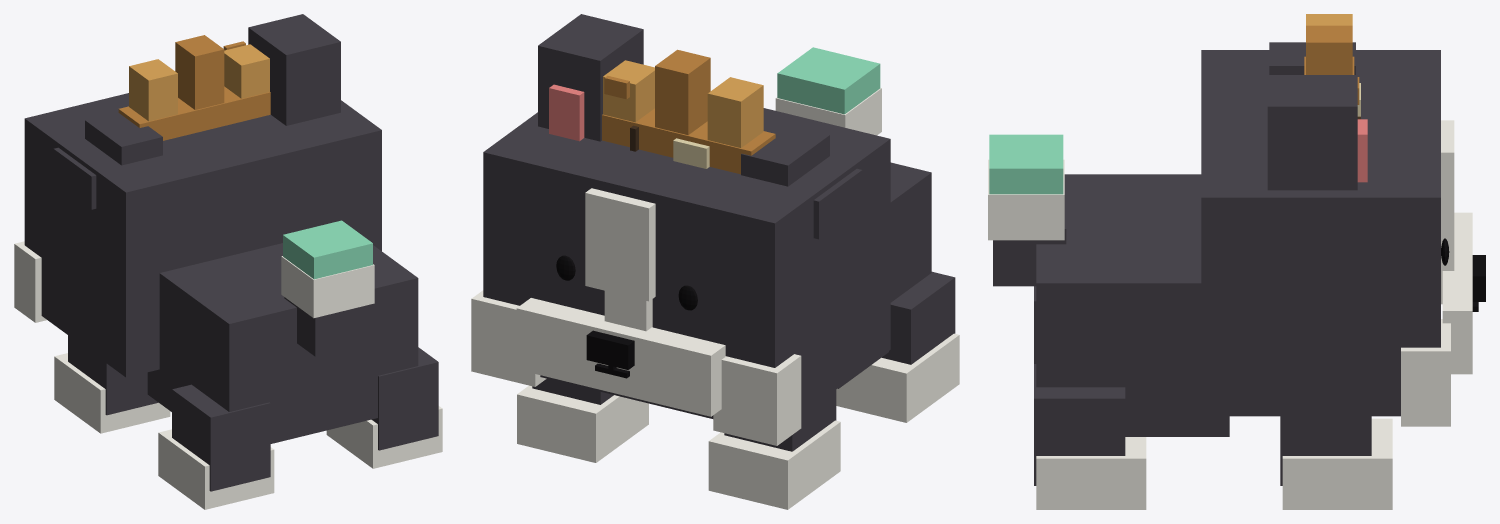
The model's file is BorderCollie_Block.obj.
3 views of the same model, side by side, from view 1: azimuth 30°, elevation 25°; view 2: azimuth 150°, elevation 25°; view 3: azimuth 270°, elevation 25° (orthographic). The views are drawn at different scales.
Parts seen in each view (by area): view 1: BigHead, ShortTorso, UprightEarR, LegBL_Leg, LegBR_Leg, LegBL_Paw, TailMintTip, TailWhiteBand, LegFL_Paw, CrownBand, CrownCrenelCenter, TailRoot (+7 smaller); view 2: BigHead, WhiteMuzzle, LegFL_Paw, UprightEarR, LegFR_Paw, WhiteBlazeUpper, HangingCheekFluffL, LegBL_Paw, ShortTorso, TailMintTip, LegBL_Leg, CrownCrenelCenter (+13 smaller); view 3: BigHead, ShortTorso, UprightEarR, LegFR_Paw, LegBR_Leg, LegBR_Paw, TailMintTip, HangingCheekFluffR, WhiteMuzzle, LegFR_Leg, TailWhiteBand, CrownCrenelCenter (+6 smaller).
Part boxes in pixels (x1=…): BigHead: x1=24, y1=93, x2=381, y2=377; ShortTorso: x1=147, y1=243, x2=418, y2=443; UprightEarR: x1=248, y1=14, x2=340, y2=125; LegBL_Leg: x1=172, y1=384, x2=270, y2=491; LegBR_Leg: x1=371, y1=347, x2=438, y2=450; LegBL_Paw: x1=158, y1=429, x2=274, y2=509; TailMintTip: x1=283, y1=220, x2=372, y2=279; TailWhiteBand: x1=281, y1=256, x2=374, y2=318; LegFL_Paw: x1=54, y1=353, x2=170, y2=433; CrownBand: x1=118, y1=86, x2=270, y2=140; CrownCrenelCenter: x1=175, y1=35, x2=224, y2=109; TailRoot: x1=284, y1=297, x2=368, y2=356; BigHead: x1=483, y1=108, x2=890, y2=418; WhiteMuzzle: x1=516, y1=298, x2=725, y2=416; LegFL_Paw: x1=708, y1=420, x2=840, y2=509; UprightEarR: x1=538, y1=14, x2=643, y2=141; LegFR_Paw: x1=517, y1=385, x2=648, y2=462; WhiteBlazeUpper: x1=585, y1=188, x2=655, y2=301; HangingCheekFluffL: x1=713, y1=354, x2=801, y2=445; LegBL_Paw: x1=836, y1=333, x2=959, y2=422; ShortTorso: x1=838, y1=162, x2=931, y2=388; TailMintTip: x1=777, y1=47, x2=880, y2=114; LegBL_Leg: x1=882, y1=271, x2=955, y2=364; CrownCrenelCenter: x1=655, y1=49, x2=710, y2=135; BigHead: x1=1201, y1=50, x2=1440, y2=416; ShortTorso: x1=1036, y1=174, x2=1229, y2=436; UprightEarR: x1=1267, y1=75, x2=1357, y2=190; LegFR_Paw: x1=1282, y1=418, x2=1392, y2=509; LegBR_Leg: x1=1034, y1=364, x2=1125, y2=485; LegBR_Paw: x1=1036, y1=437, x2=1146, y2=509; TailMintTip: x1=989, y1=134, x2=1063, y2=194; HangingCheekFluffR: x1=1401, y1=319, x2=1450, y2=426; WhiteMuzzle: x1=1442, y1=212, x2=1472, y2=374; LegFR_Leg: x1=1280, y1=416, x2=1371, y2=485; TailWhiteBand: x1=988, y1=159, x2=1064, y2=240; CrownCrenelCenter: x1=1306, y1=25, x2=1352, y2=74.
Bounding box in the file's own units: 2.2 × 2.7 × 2.99.
